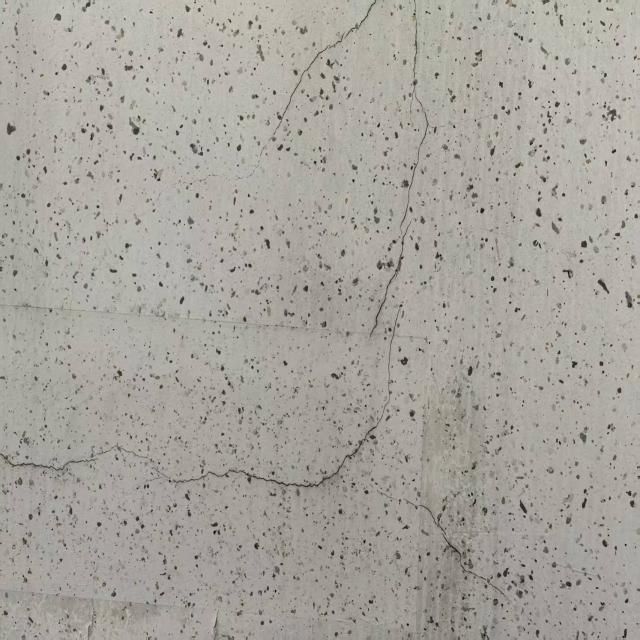crack: (3, 296, 412, 496), (171, 6, 376, 195), (362, 10, 456, 342), (372, 482, 518, 618)
